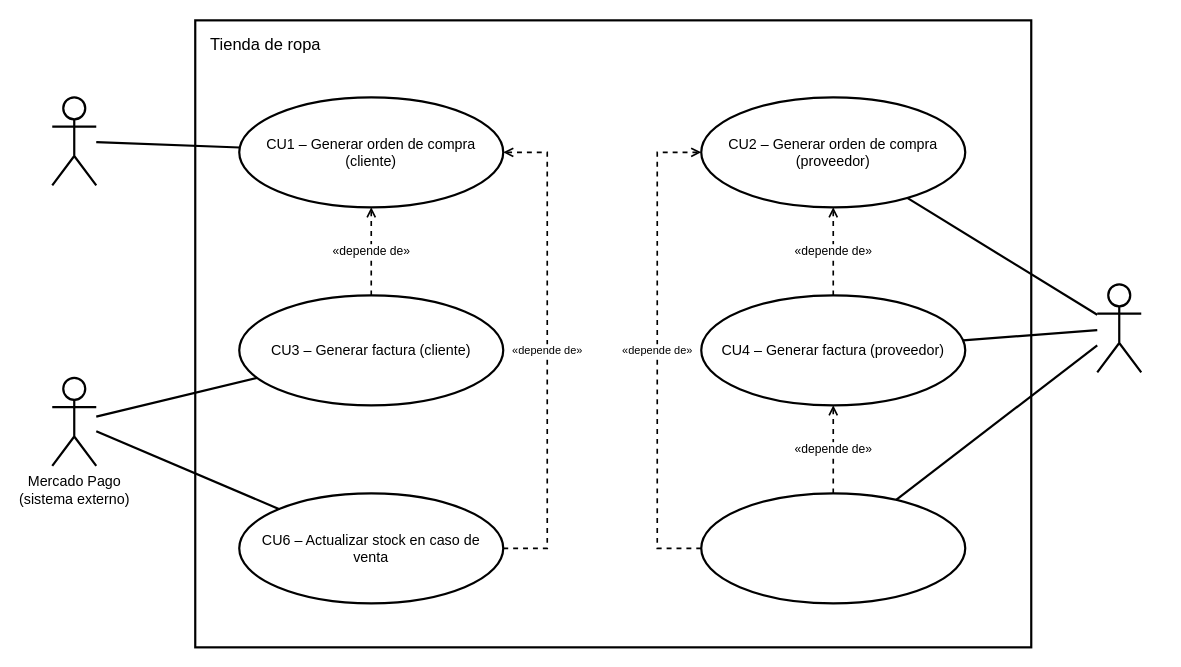
Some shapes in this 1181 by 667 pixel diagram are drawn without their labels. The centre of each missing label's shape, as x and y in pixels:
Administrador: [1119,328]
Cliente: [74,141]
CU5 – Actualizar stock en caso de compra (recepción de proveedor): [833,548]
